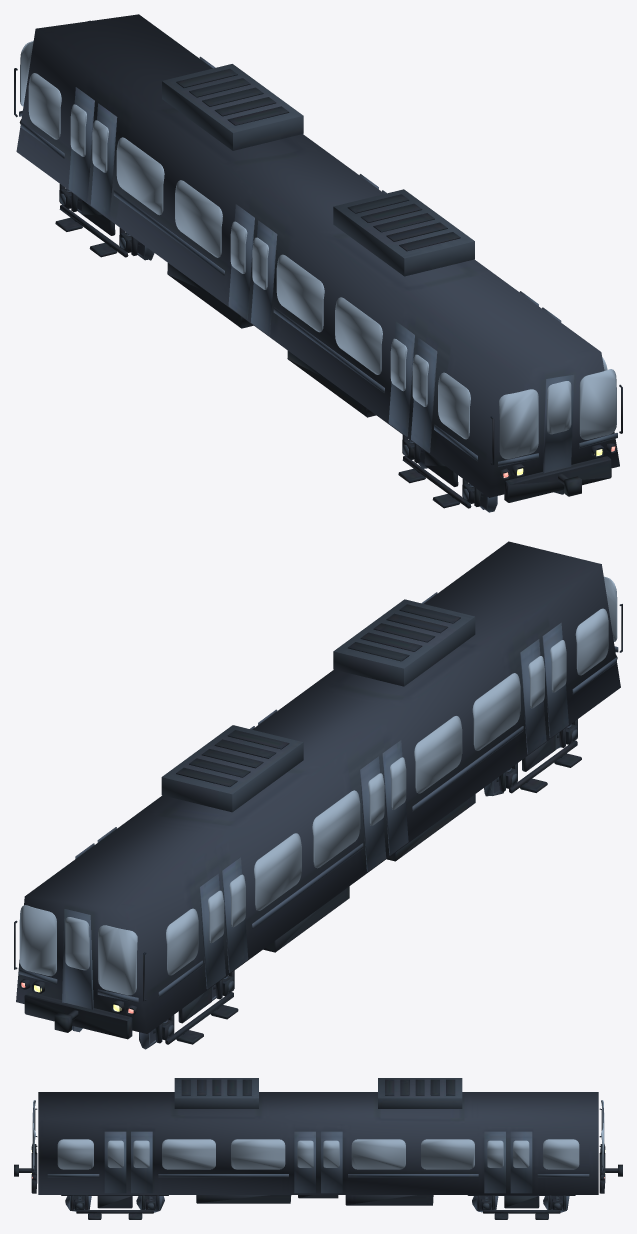
Rendered from subway.glb.
The picture shows the model from 3 angles, top to bottom: view 1: azimuth 30°, elevation 25°; view 2: azimuth 150°, elevation 25°; view 3: azimuth 270°, elevation 25°; orthographic projection. The views are drawn at different scales.
Parts seen in each view (by area): view 1: subway-train_body, subway-train_window_glass; view 2: subway-train_body, subway-train_window_glass; view 3: subway-train_body, subway-train_window_glass.
Part boxes in pixels (x1,y1,x2,y2): subway-train_body: [14, 14, 622, 512]; subway-train_window_glass: [20, 41, 616, 459]; subway-train_body: [14, 541, 622, 1049]; subway-train_window_glass: [19, 576, 617, 995]; subway-train_body: [14, 1078, 622, 1219]; subway-train_window_glass: [32, 1100, 604, 1169].
Bounding box in the file's own units: 2.83 × 3.76 × 17.97.
4 materials, 1 textured.
